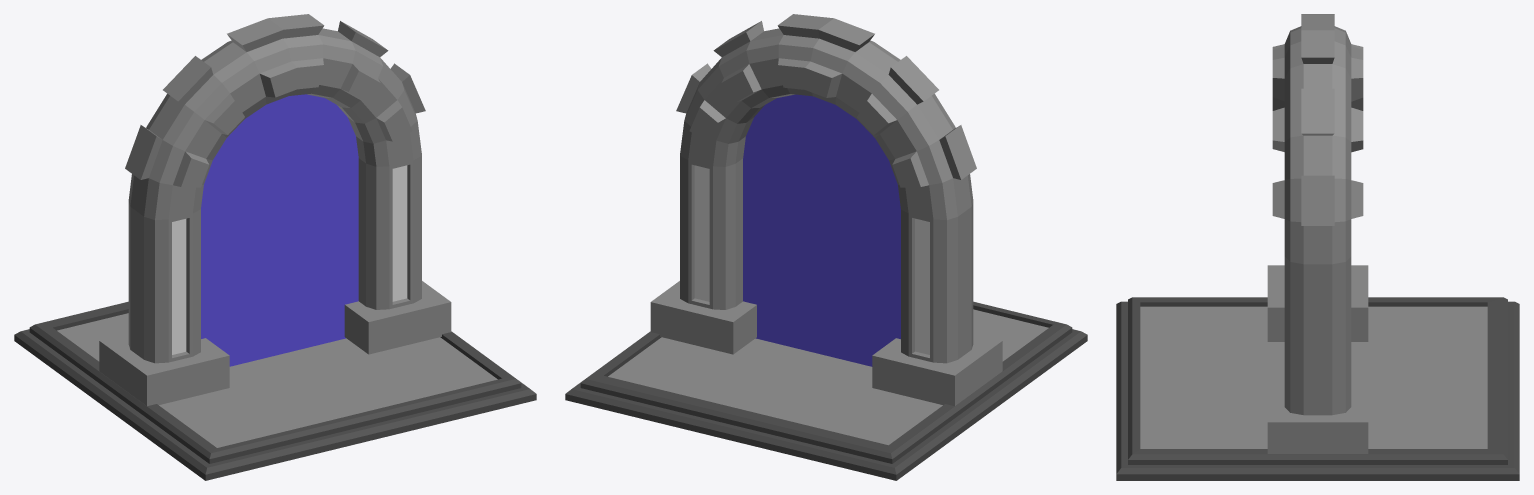
The model's file is FixedPortal.fbx.
The picture shows the model from 3 angles, left to right: view 1: azimuth 30°, elevation 25°; view 2: azimuth 150°, elevation 25°; view 3: azimuth 270°, elevation 25°; orthographic projection. The views are drawn at different scales.
Visible parts, largest first — view 1: Cube; view 2: Cube; view 3: Cube.
Part boxes in pixels (x1=…): Cube: x1=14, y1=14, x2=536, y2=480; Cube: x1=565, y1=14, x2=1087, y2=480; Cube: x1=1116, y1=14, x2=1519, y2=480.
Bounding box in the file's own units: 1211 × 1210 × 1211.
